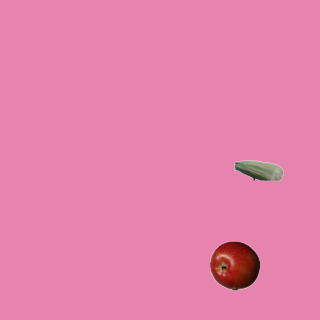Apple Braeburn: (209, 240, 259, 290)
Corn Husk: (233, 145, 283, 195)
